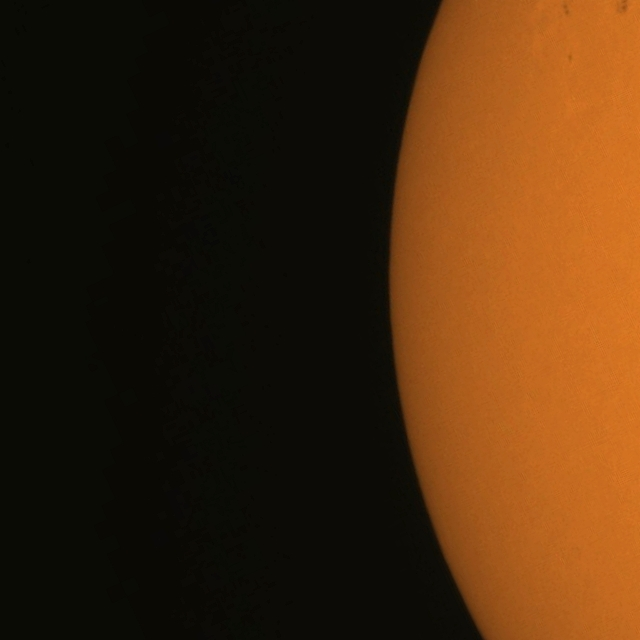sunspot: (616, 1, 630, 15), (561, 2, 571, 18), (566, 52, 574, 64)
